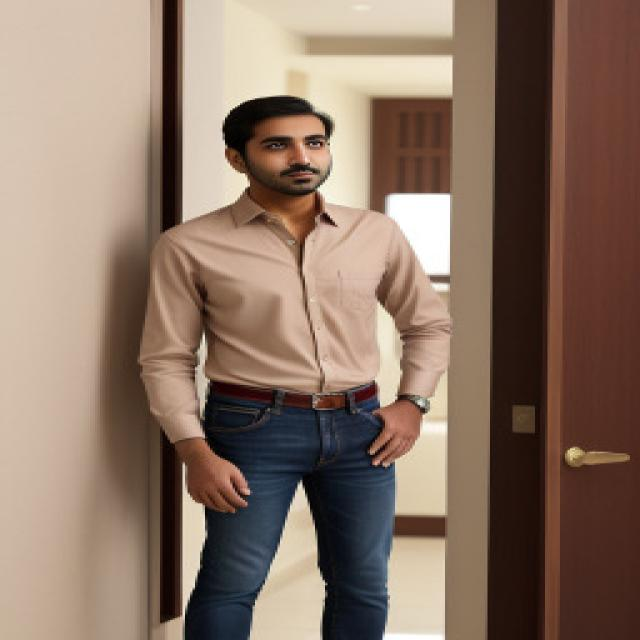Ai human 2: (130, 86, 470, 640)
